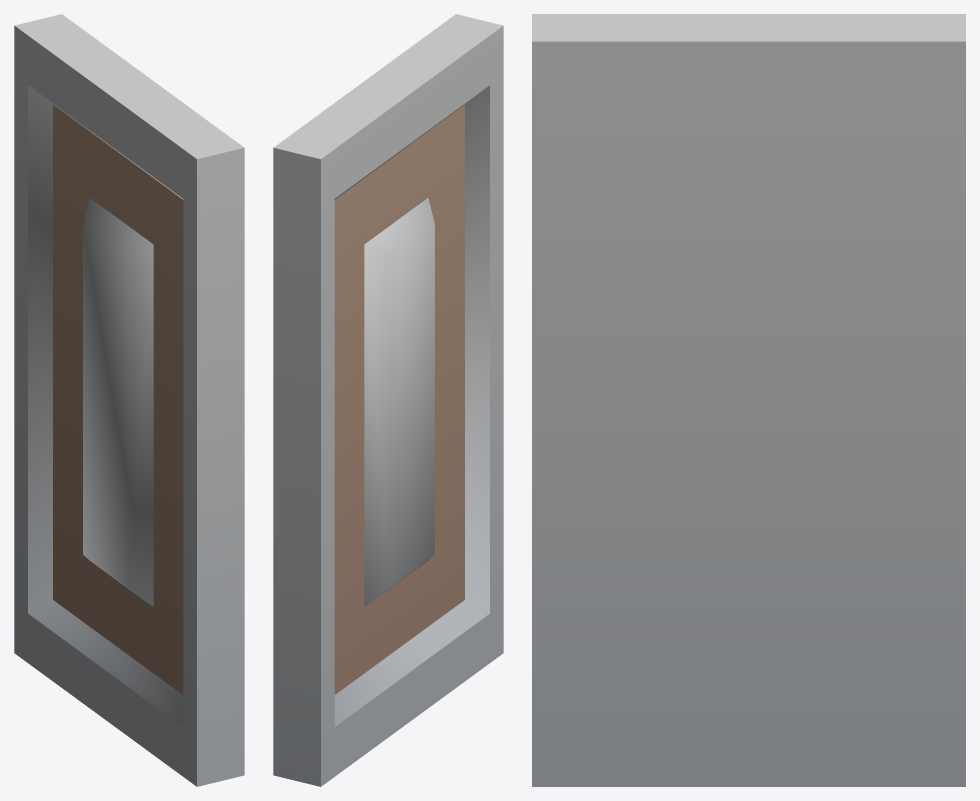
Rendered from paneling-a-half (%wall).glb.
3 views of the same model, side by side, from view 1: azimuth 30°, elevation 25°; view 2: azimuth 150°, elevation 25°; view 3: azimuth 270°, elevation 25° (orthographic). The views are drawn at different scales.
Visible parts, largest first — view 1: paneling-a-half (%wall); view 2: paneling-a-half (%wall); view 3: paneling-a-half (%wall).
Part boxes in pixels (<box>): paneling-a-half (%wall): <box>14,14,244,786</box>; paneling-a-half (%wall): <box>273,14,503,786</box>; paneling-a-half (%wall): <box>532,14,965,786</box>.
Size of the model in its own units: 0.075 by 0.9479 by 0.5.
